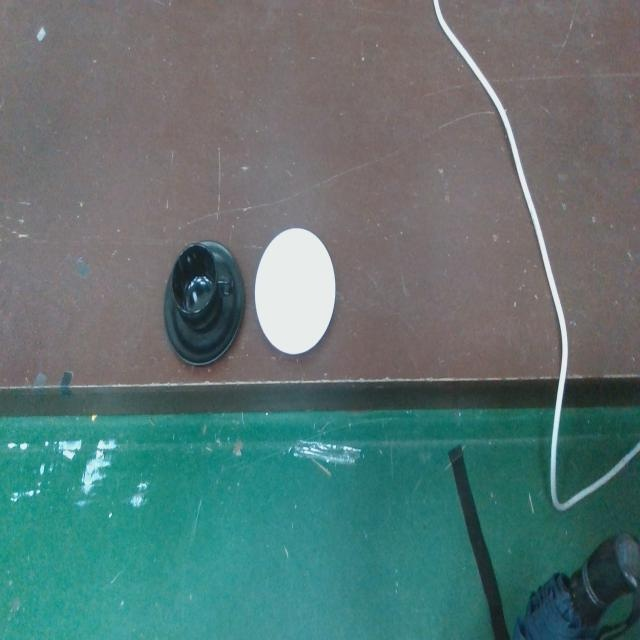black: (162, 234, 248, 371)
white: (254, 224, 337, 358)
